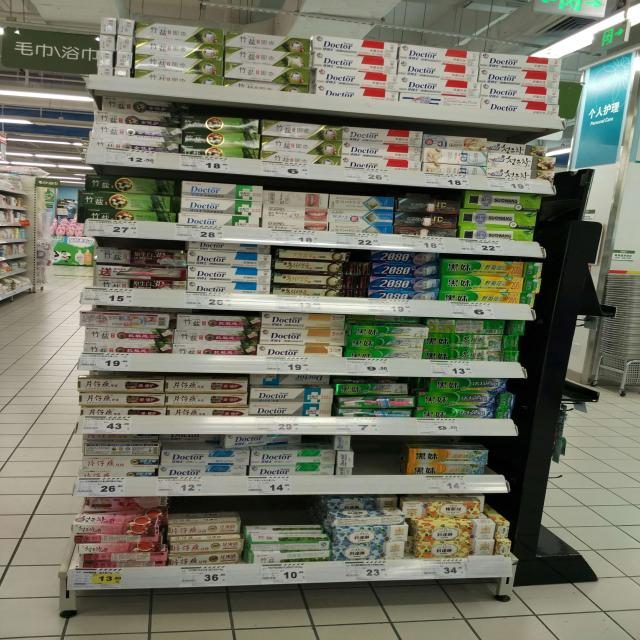void: (379, 439, 405, 494), (357, 436, 378, 496)
